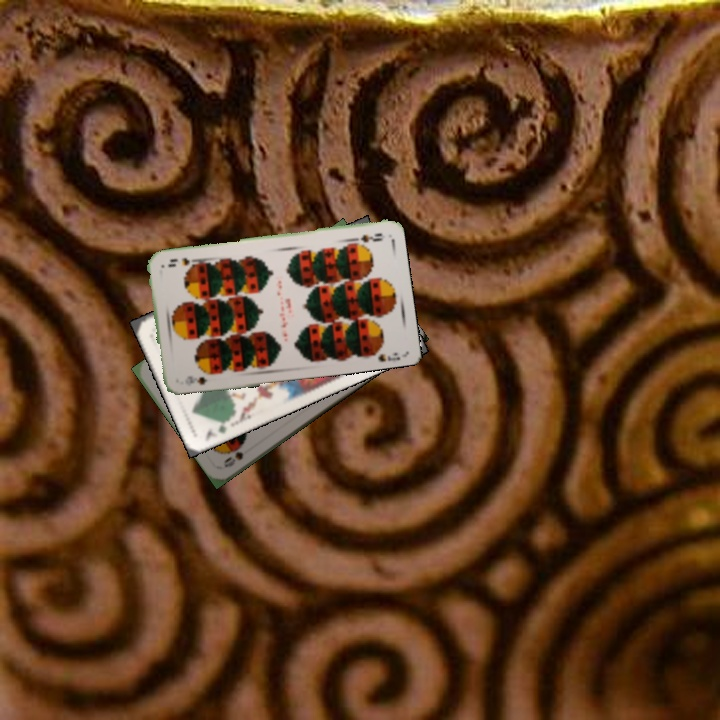GK: (201, 413, 234, 443)
S9: (348, 229, 385, 246), (181, 372, 210, 389)
SO: (219, 447, 246, 470)
